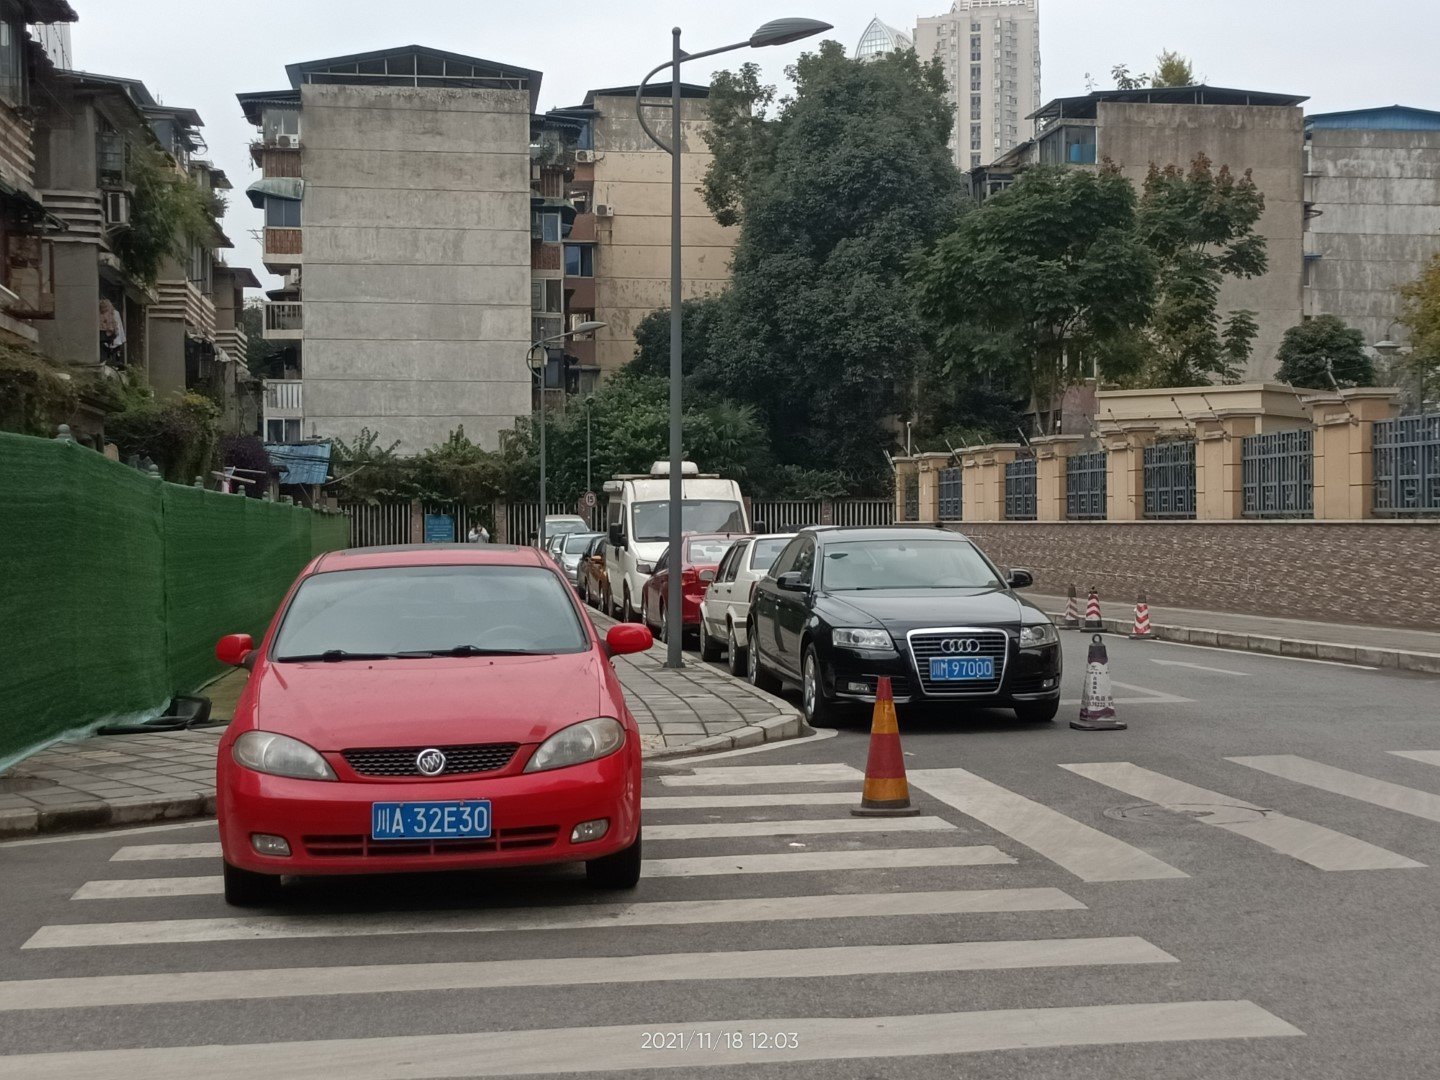plate: (373, 800, 490, 838), (927, 656, 993, 680)
